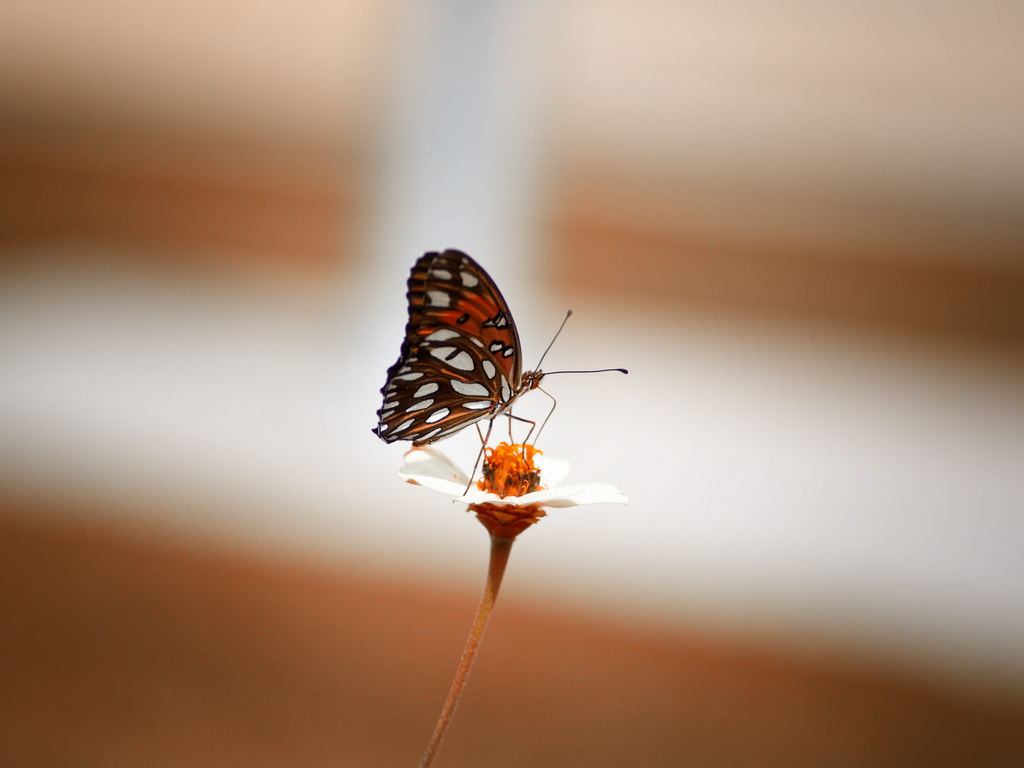Butterfly: (361, 231, 609, 456)
